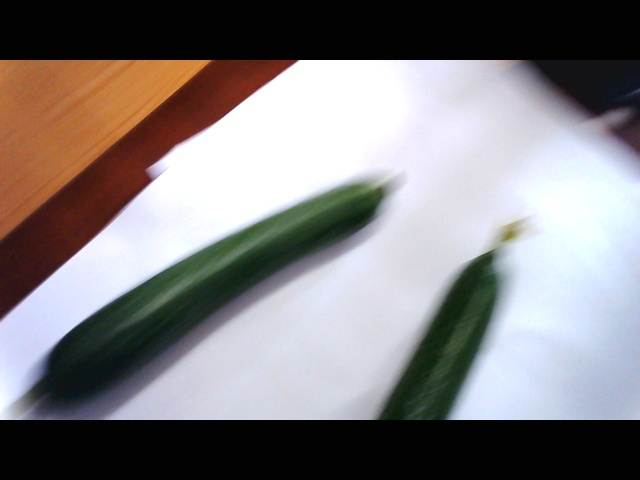cucumber: (45, 177, 377, 401), (379, 227, 542, 419)
